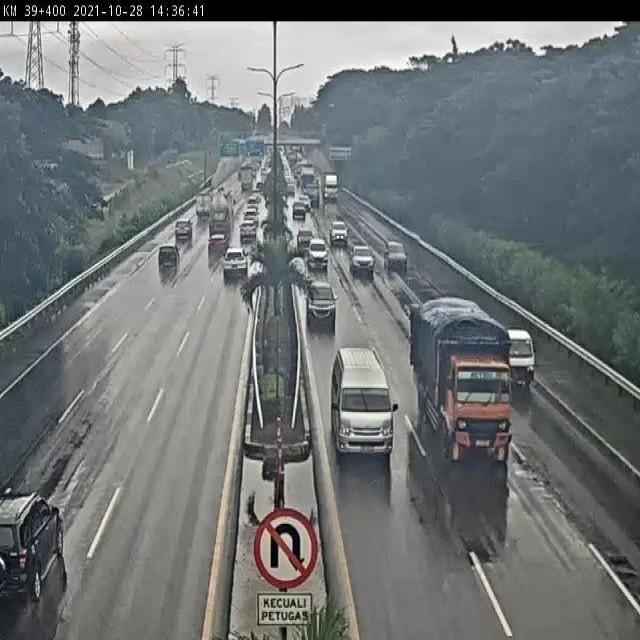bus-s-: (330, 348, 398, 453)
car: (493, 317, 525, 375)
truck-m-: (407, 300, 514, 460)
truck-xl-: (210, 191, 237, 244)
